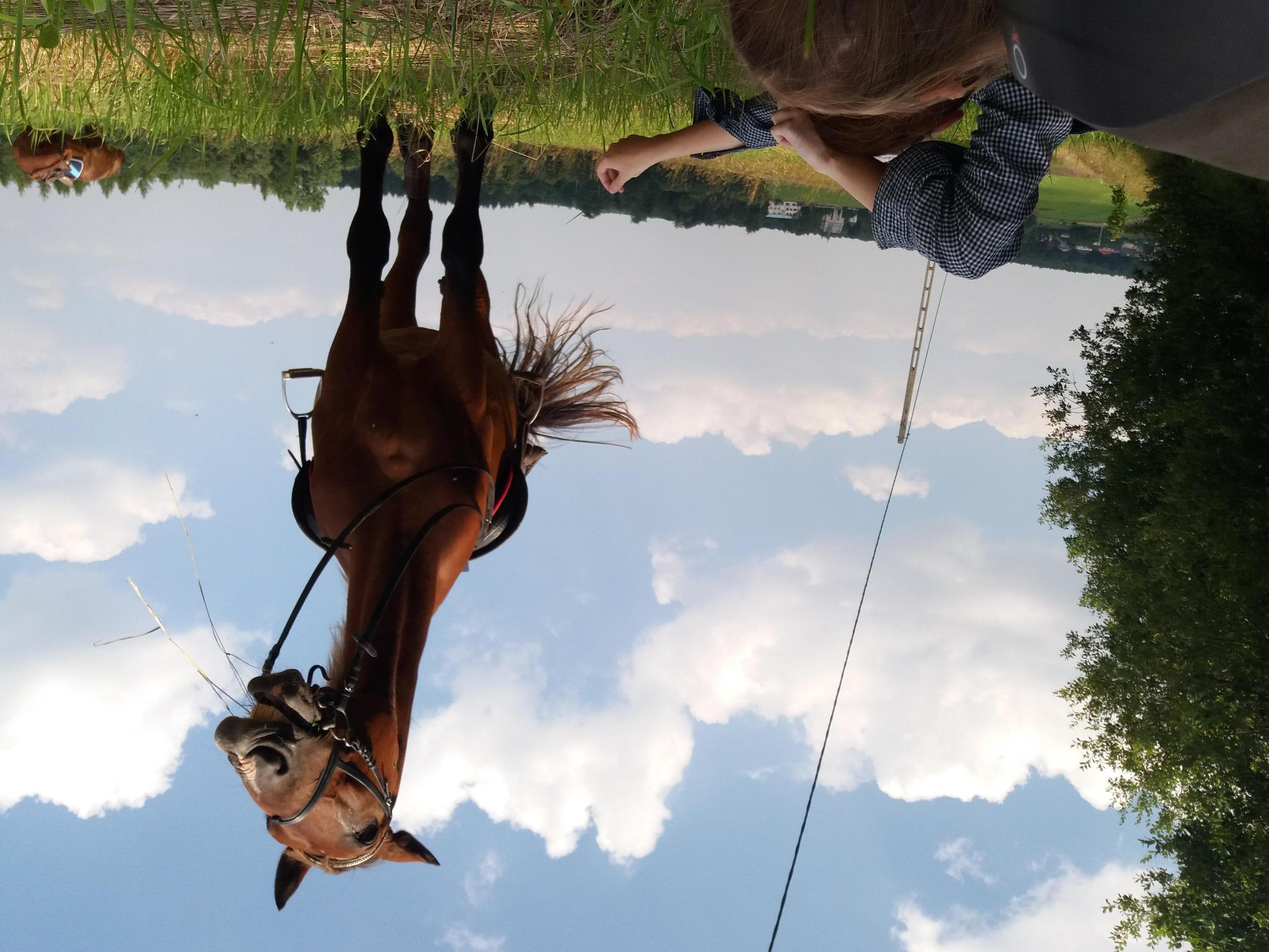horse: (214, 90, 642, 909)
